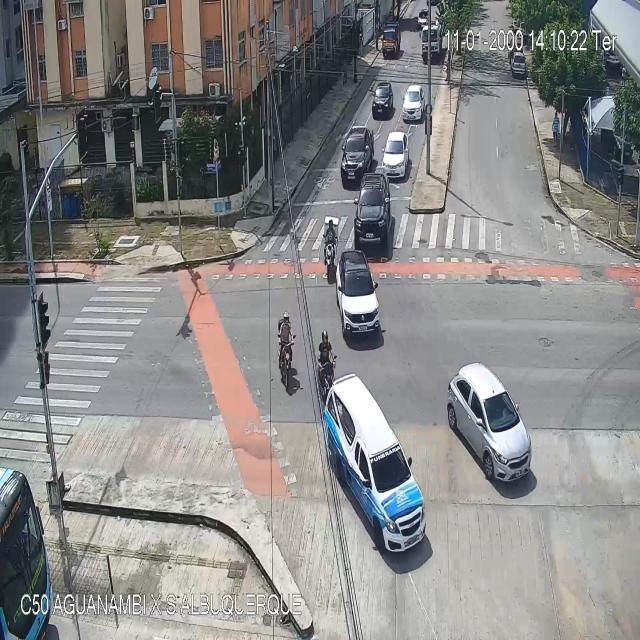Bus: (1, 466, 52, 640)
Car: (322, 374, 427, 552), (447, 360, 530, 481), (337, 250, 381, 340), (355, 174, 392, 254), (341, 128, 373, 188), (383, 132, 409, 183), (403, 84, 423, 125), (371, 83, 395, 117), (416, 5, 432, 30), (511, 53, 526, 79)
Motorcycle: (319, 328, 336, 409), (277, 314, 294, 392), (324, 220, 336, 285)
Truck: (422, 25, 443, 64), (382, 26, 400, 58)
